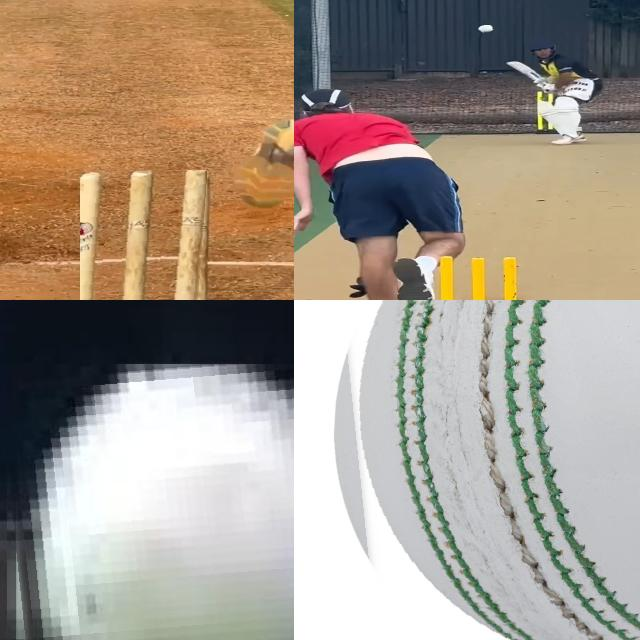Cricket ball: (328, 300, 640, 640), (0, 364, 294, 640), (477, 25, 500, 37)
Stumps: (80, 170, 208, 300)
